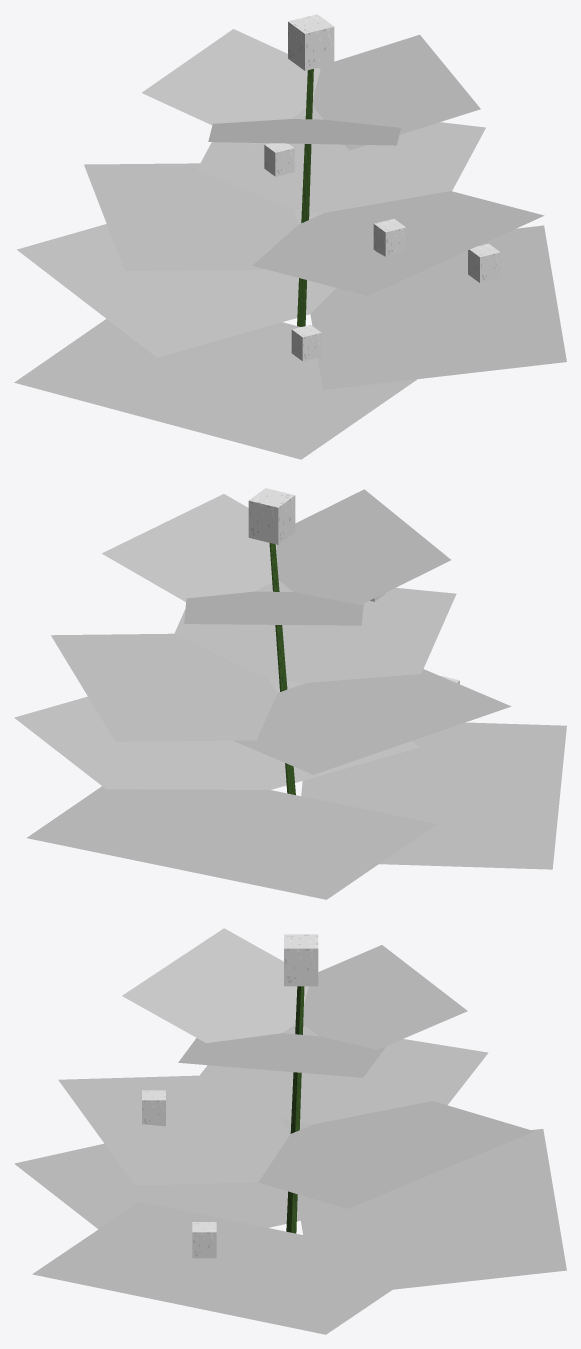
The model's file is plant_2_1_1_lod.obj.
The picture shows the model from 3 angles, top to bottom: view 1: azimuth 30°, elevation 25°; view 2: azimuth 150°, elevation 25°; view 3: azimuth 270°, elevation 25°; orthographic projection.
Visible parts, largest first — view 1: model; view 2: model; view 3: model.
Part boxes in pixels (x1,y1,x2,y2): model: (14,14,566,459); model: (14,488,566,899); model: (14,928,566,1334).
Bounding box in the file's own units: 1.3 × 0.8019 × 1.16.
